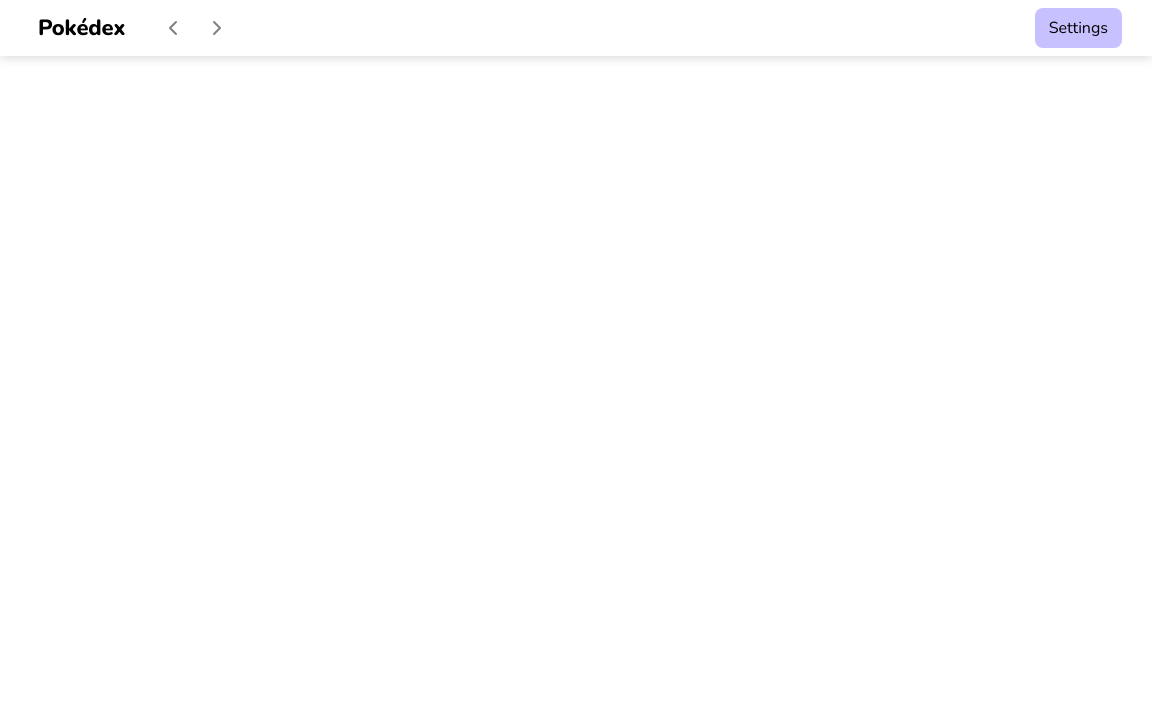
Test: TopNavbar › hides the drop down menu following a click outside of the settings button and dropdown menu
The width and height of the screenshot is (1152, 720).
Click the button "Settings": coordinates (1078, 28) [1035,8,1122,48]
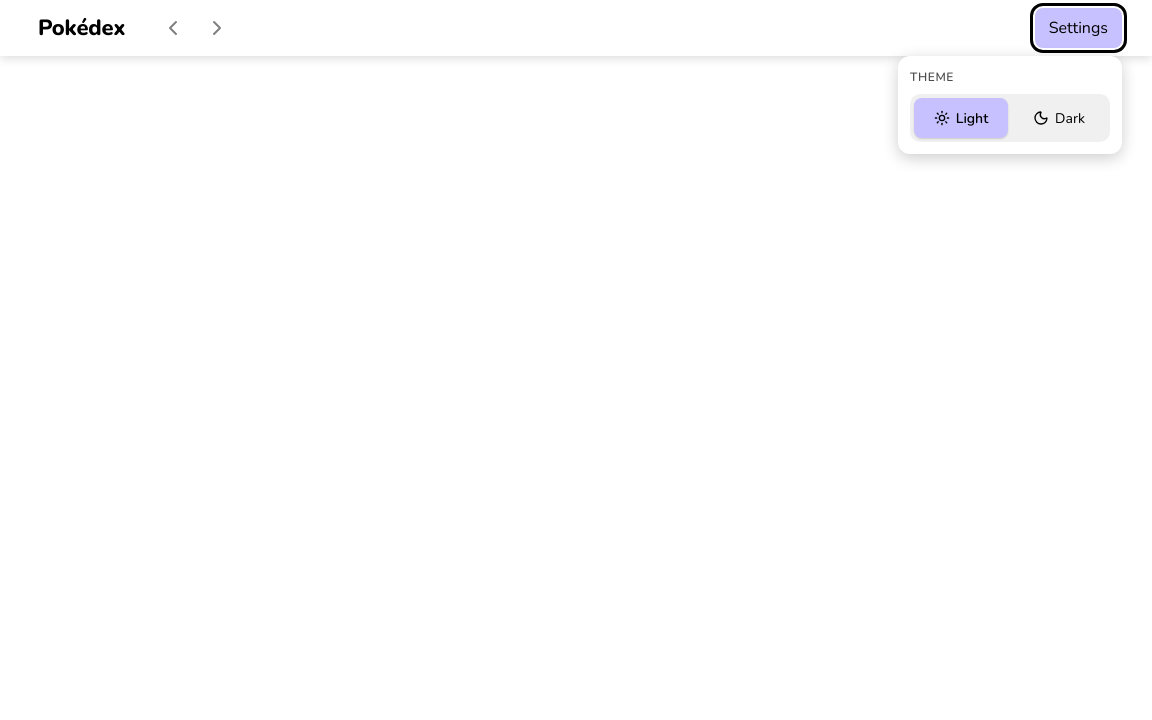
Click the element showing "Pokédex Settings Theme Light Dark": coordinates (576, 360) [0,0,1151,719]
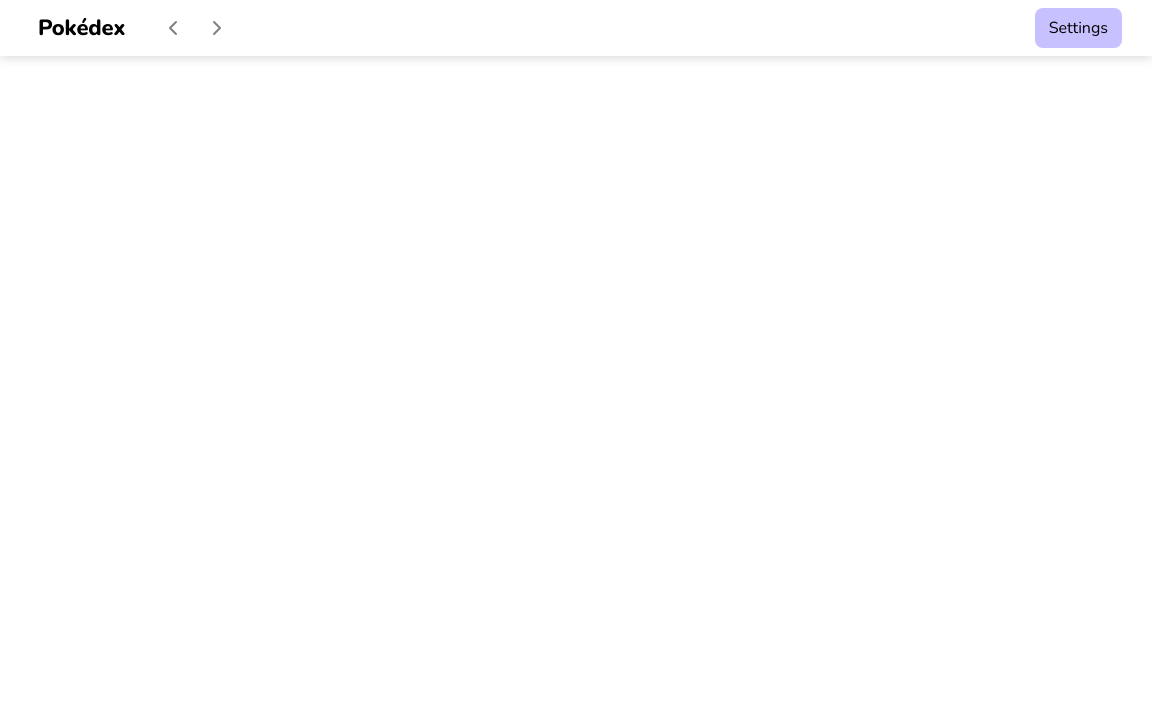
Expected: the element with test id "drop-down" is gone
